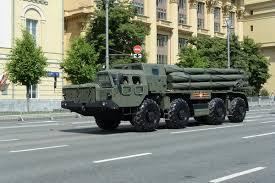MIL_SAM_TEL: (62, 64, 253, 130)
